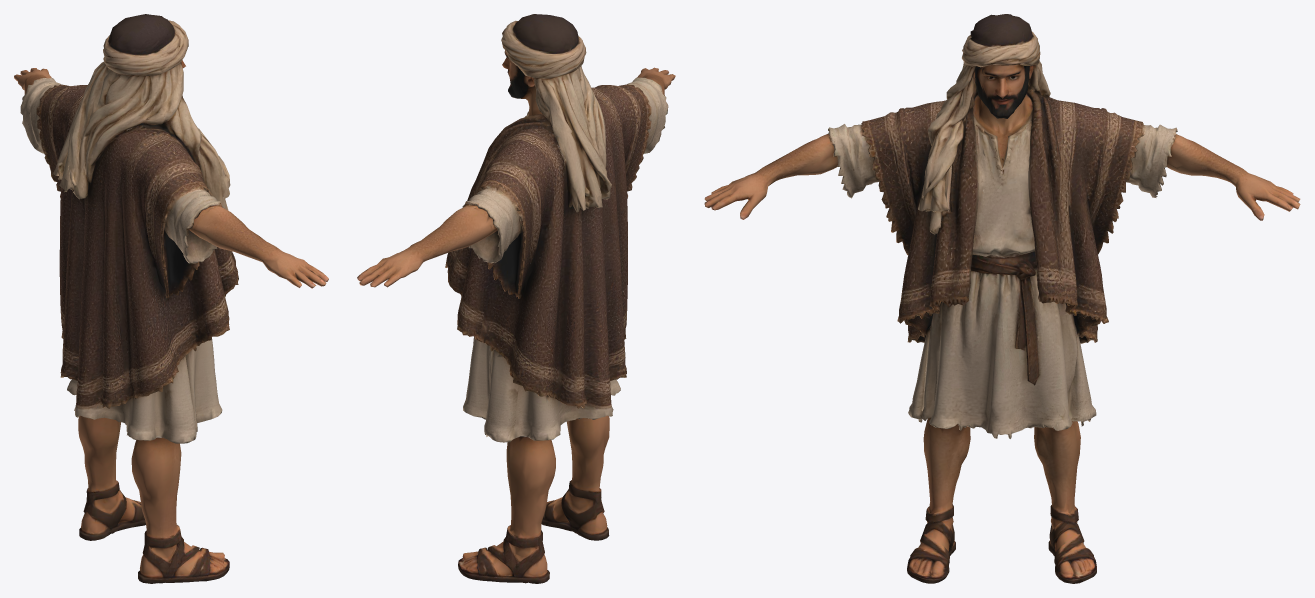
The model's file is source-pbr_model.glb.
3 renders of one model, left to right at view 1: azimuth 30°, elevation 25°; view 2: azimuth 150°, elevation 25°; view 3: azimuth 270°, elevation 25°, orthographic.
Visible parts, largest first — view 1: tripo_node_e198edfc-5b5b-4641-9f5d-790e1fb6169f; view 2: tripo_node_e198edfc-5b5b-4641-9f5d-790e1fb6169f; view 3: tripo_node_e198edfc-5b5b-4641-9f5d-790e1fb6169f.
Part boxes in pixels (x1,y1,x2,y2): tripo_node_e198edfc-5b5b-4641-9f5d-790e1fb6169f: [14, 14, 328, 583]; tripo_node_e198edfc-5b5b-4641-9f5d-790e1fb6169f: [357, 14, 675, 583]; tripo_node_e198edfc-5b5b-4641-9f5d-790e1fb6169f: [704, 14, 1300, 583].
Size of the model in its own units: 0.2807 by 1 by 0.9973.
1 material, 1 textured.
